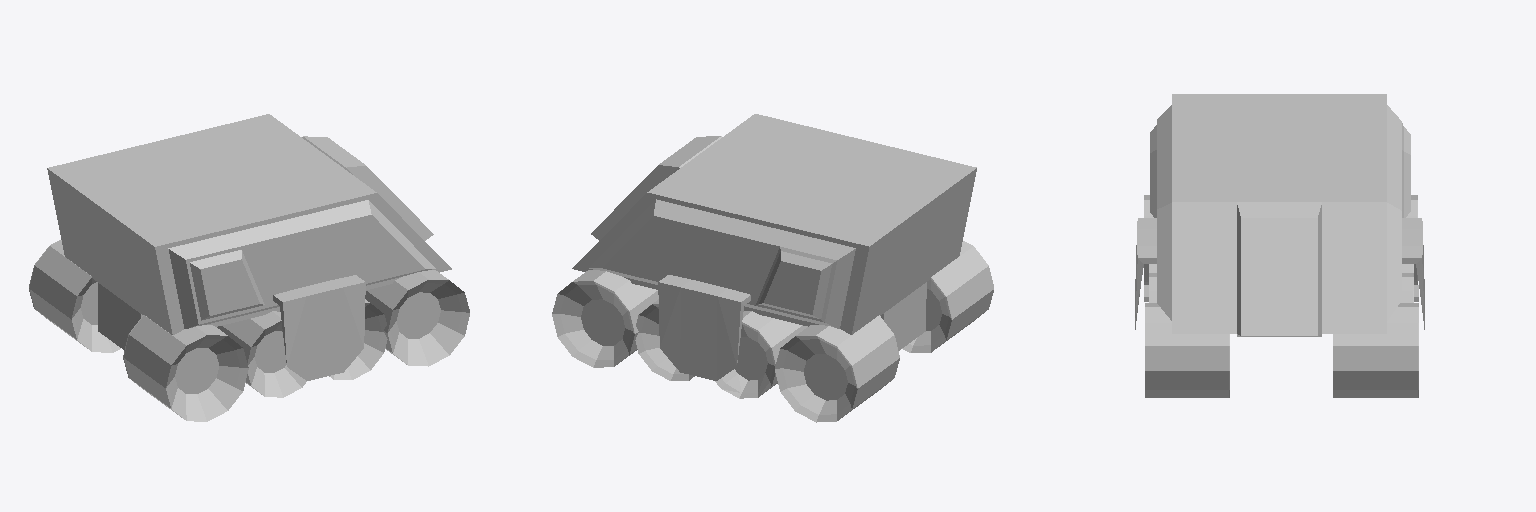
The model's file is tank3.obj.
3 views of the same model, side by side, from view 1: azimuth 30°, elevation 25°; view 2: azimuth 150°, elevation 25°; view 3: azimuth 270°, elevation 25° (orthographic).
Size of the model in its own units: 8.21 by 4.33 by 6.49.